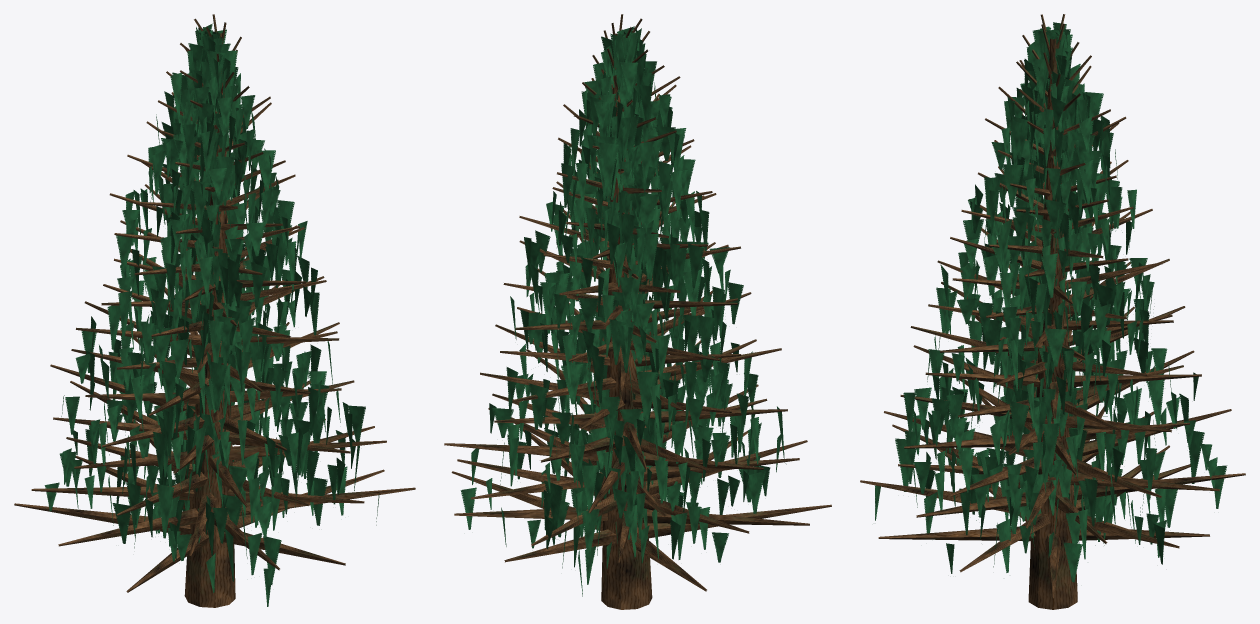
The model's file is pine_tree.glb.
The picture shows the model from 3 angles, left to right: view 1: azimuth 30°, elevation 25°; view 2: azimuth 150°, elevation 25°; view 3: azimuth 270°, elevation 25°; orthographic projection.
Parts seen in each view (by area): view 1: pine needles, pine bark and limbs; view 2: pine needles, pine bark and limbs; view 3: pine needles, pine bark and limbs.
Part boxes in pixels (x1=…): pine needles: x1=44, y1=23, x2=379, y2=606; pine bark and limbs: x1=14, y1=14, x2=415, y2=607; pine needles: x1=460, y1=26, x2=786, y2=596; pine bark and limbs: x1=444, y1=14, x2=831, y2=609; pine needles: x1=875, y1=22, x2=1227, y2=582; pine bark and limbs: x1=860, y1=14, x2=1245, y2=609.
Bounding box in the file's own units: 4.32 × 6.98 × 4.21.
2 materials, 2 textured.
